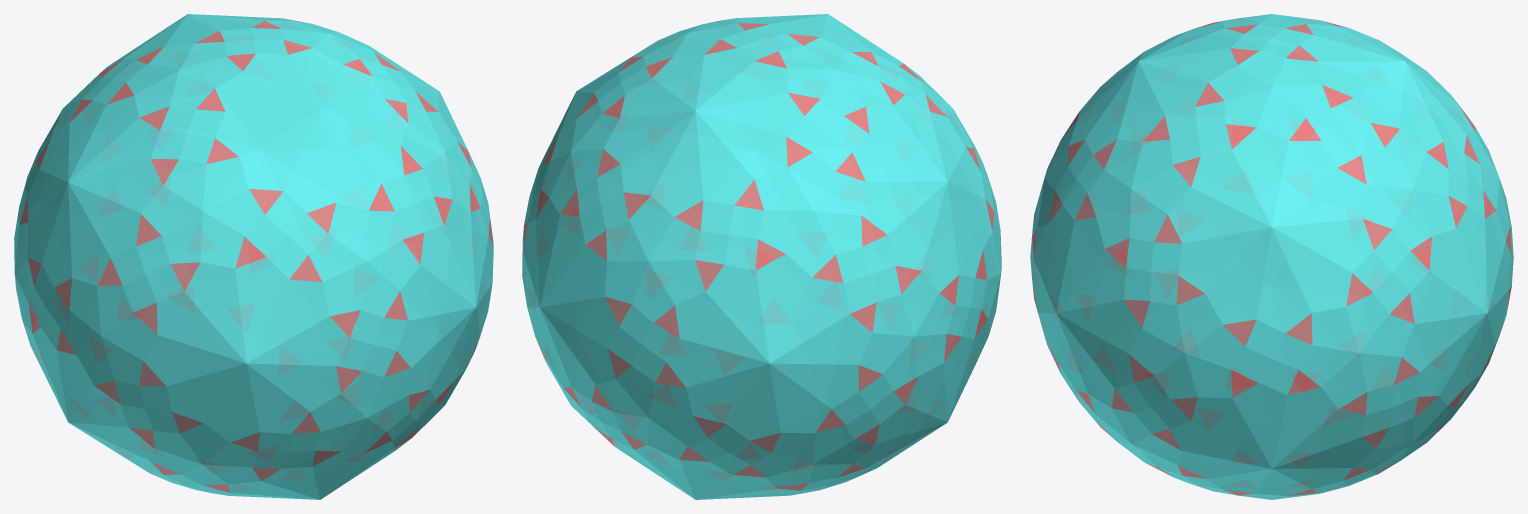
File: PropellorDisdyakisTriacontahedron.obj
3 renders of one model, left to right at view 1: azimuth 30°, elevation 25°; view 2: azimuth 150°, elevation 25°; view 3: azimuth 270°, elevation 25°, orthographic.
Size of the model in its own units: 2 by 2 by 2.
